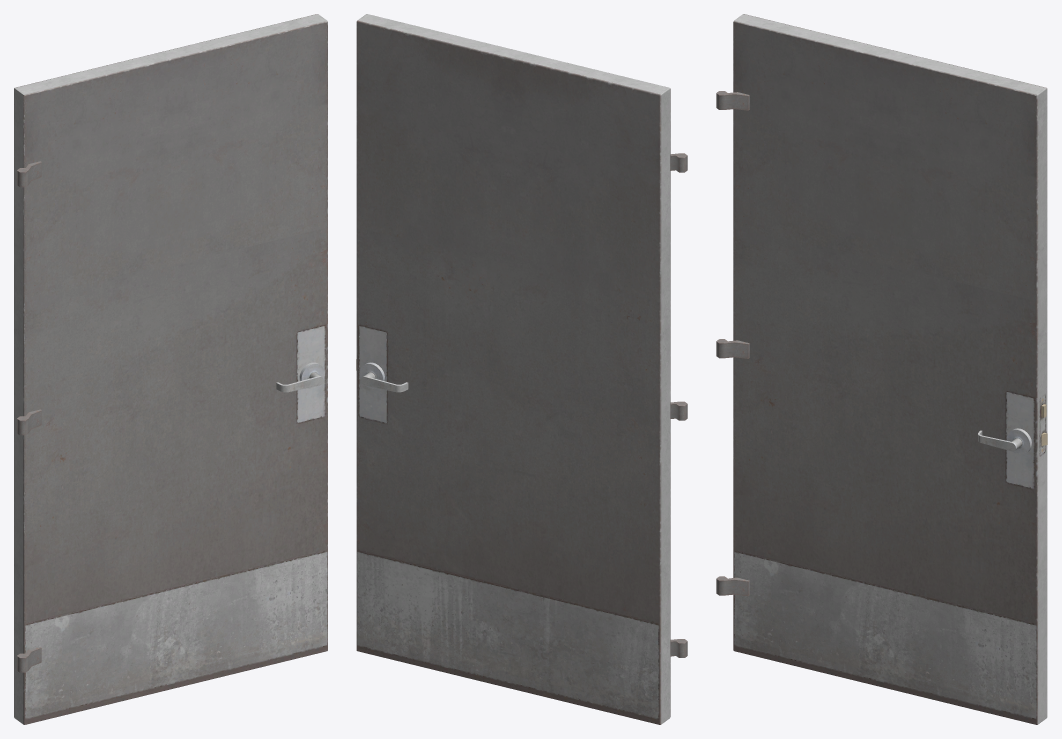
The model's file is SM_Metal_Door_03a.glb.
The picture shows the model from 3 angles, left to right: view 1: azimuth 30°, elevation 25°; view 2: azimuth 150°, elevation 25°; view 3: azimuth 330°, elevation 25°; orthographic projection.
Parts seen in each view (by area): view 1: SM_Metal_Door_03a; view 2: SM_Metal_Door_03a; view 3: SM_Metal_Door_03a.
Boxes of the visible parts, box(x1,y1,x2,y2) form: SM_Metal_Door_03a: box(14, 14, 327, 724); SM_Metal_Door_03a: box(356, 14, 687, 724); SM_Metal_Door_03a: box(716, 14, 1047, 724).
Bounding box in the file's own units: 1.1 × 2.08 × 0.1626.
1 material, 1 textured.
